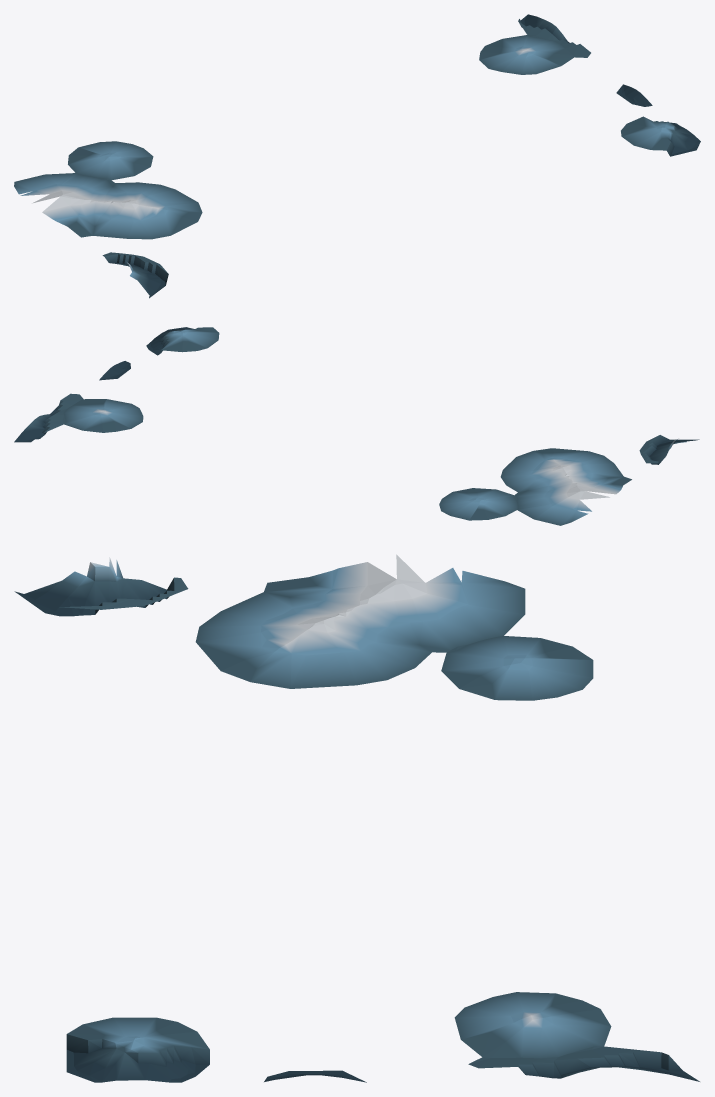
Rendered from frost_tile_x3z1_lod1.glb.
3 renders of one model, top to bottom at view 1: azimuth 30°, elevation 25°; view 2: azimuth 150°, elevation 25°; view 3: azimuth 270°, elevation 25°, orthographic. The views are drawn at different scales.
Visible parts, largest first — view 1: geometry_0; view 2: geometry_0; view 3: geometry_0.
Part boxes in pixels (left/top/right/bottom): geometry_0: left=14, top=14, right=700, bottom=298; geometry_0: left=14, top=327, right=699, bottom=525; geometry_0: left=14, top=554, right=699, bottom=1082.
Size of the model in its own units: 988 by 33.27 by 575.
